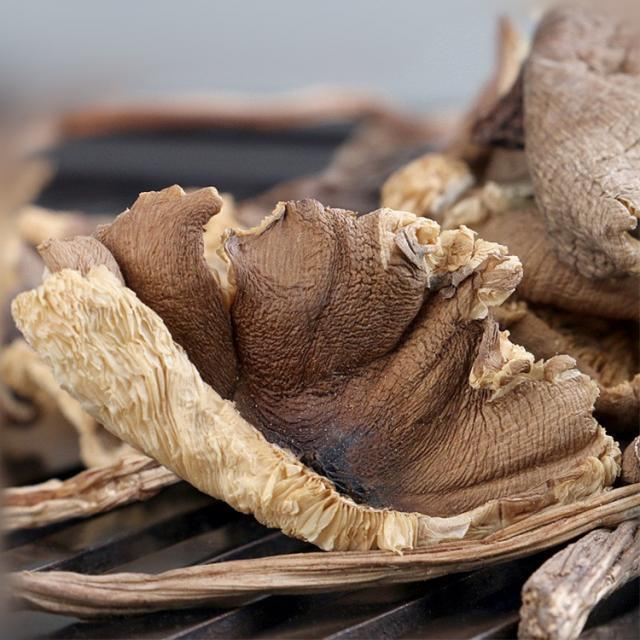Collybia albuminosa: (11, 184, 617, 541)
